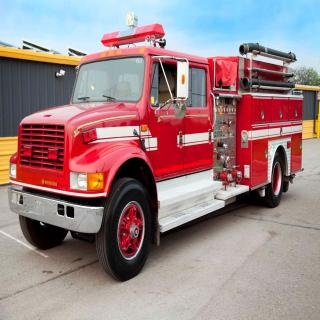Fire_truck: (8, 12, 304, 282)
